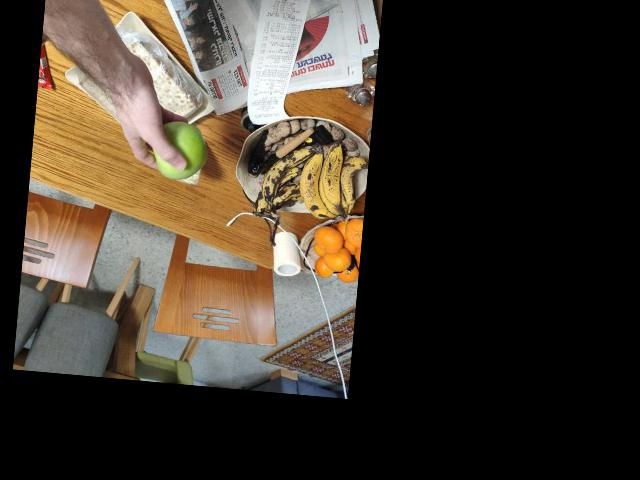apple: (149, 117, 209, 183)
